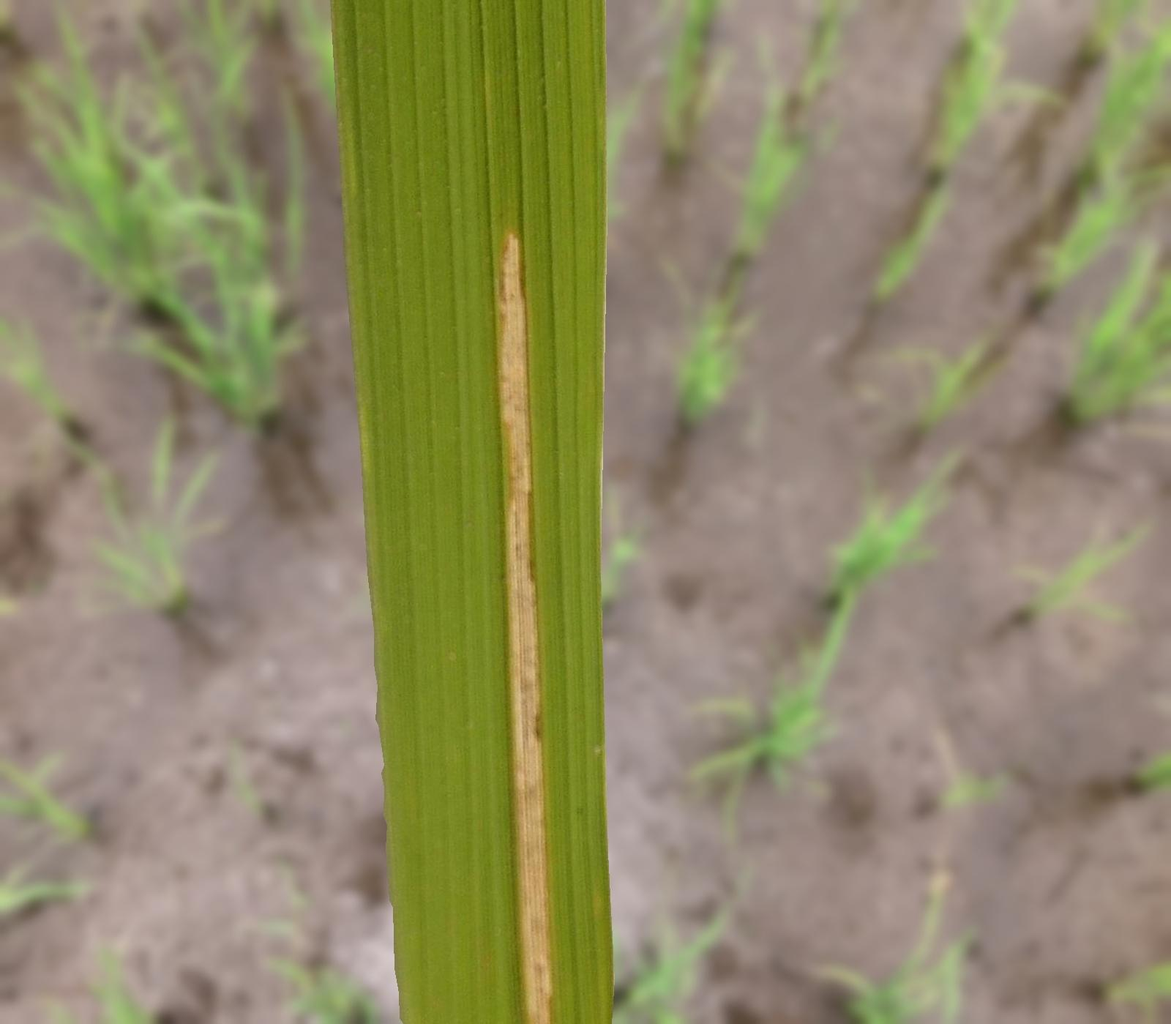BLS: (498, 230, 553, 1023)
LEAF: (330, 0, 614, 1023)
